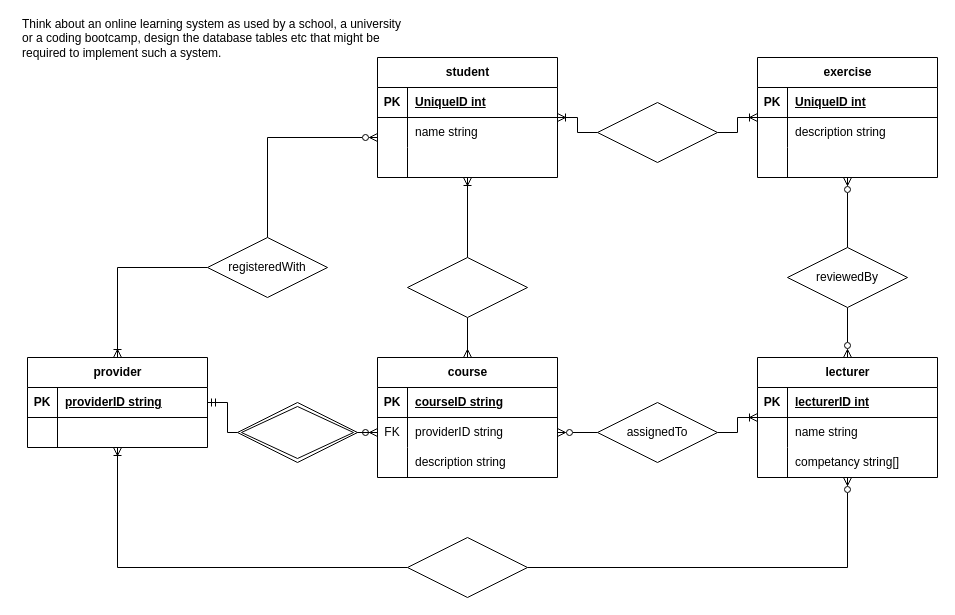
This 955x615 diagram has some shape labels left out. The shapes that lost their labels are listed below. From the top down, each one's centre as x and y in pixels, then its label:
(x=657, y=132): created
(x=467, y=287): enrolledIn
(x=297, y=432): offers
(x=467, y=567): employeeOf
